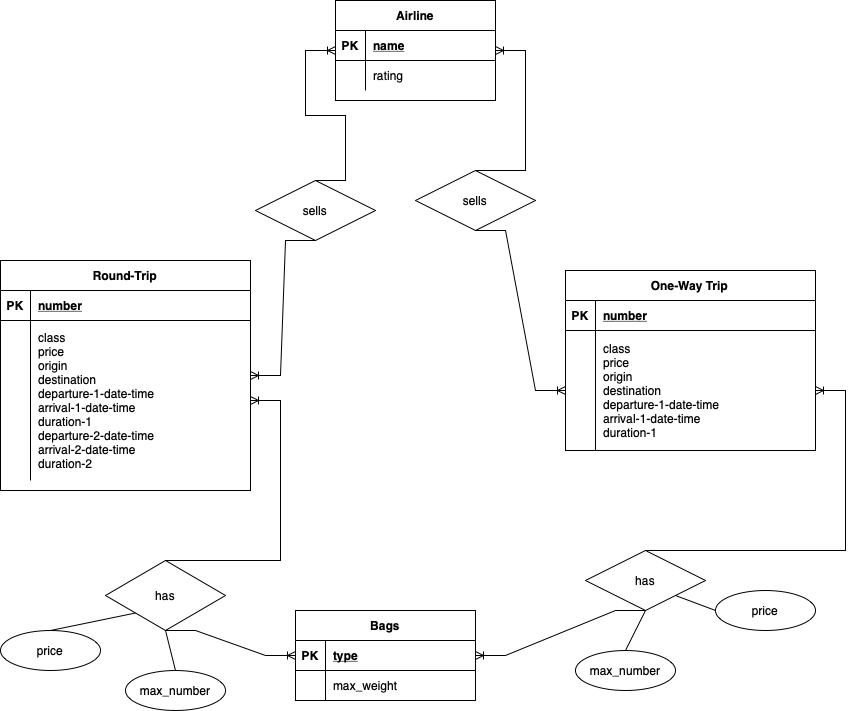attribute: (574, 650, 675, 692), (125, 670, 227, 711), (717, 590, 815, 632), (1, 631, 101, 670)
entity: (1, 259, 252, 493), (562, 266, 818, 453), (292, 606, 480, 705), (334, 1, 497, 103), (582, 550, 707, 613)
relationship: (107, 561, 225, 631), (255, 179, 374, 241), (417, 170, 535, 231)
